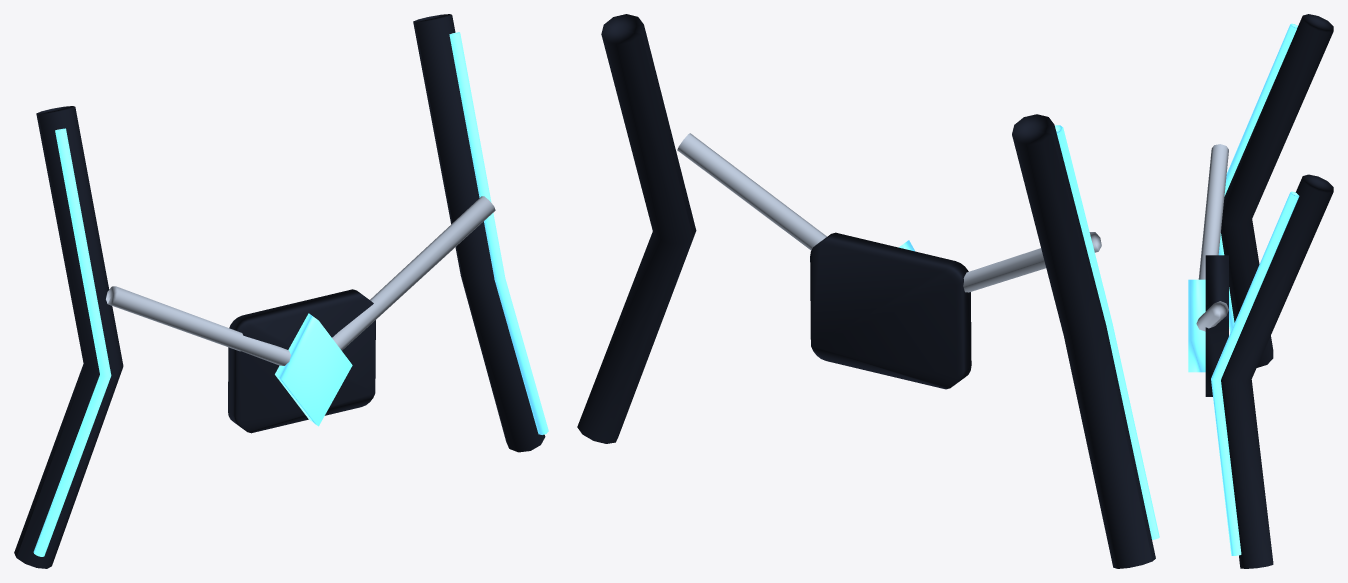
Rendered from nova_chest_jewellery.glb.
3 views of the same model, side by side, from view 1: azimuth 30°, elevation 25°; view 2: azimuth 150°, elevation 25°; view 3: azimuth 270°, elevation 25° (orthographic). The views are drawn at different scales.
Visible parts, largest first — view 1: nova_chest_jewellery; view 2: nova_chest_jewellery; view 3: nova_chest_jewellery.
Boxes of the visible parts, x1,y1,x2,y2 form: nova_chest_jewellery: (14,14,548,568); nova_chest_jewellery: (577,14,1159,568); nova_chest_jewellery: (1188,14,1333,568).
Bounding box in the file's own units: 0.3629 × 0.2779 × 0.0996.
